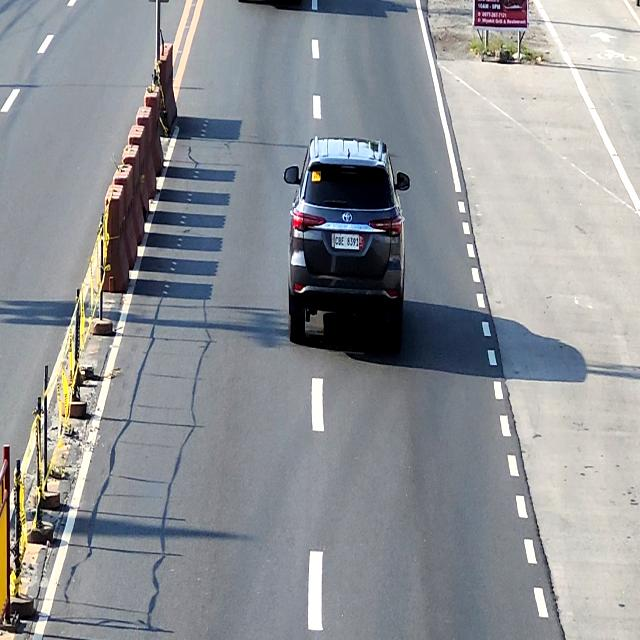Car: (284, 135, 411, 355)
License-Plate: (334, 233, 359, 249)
